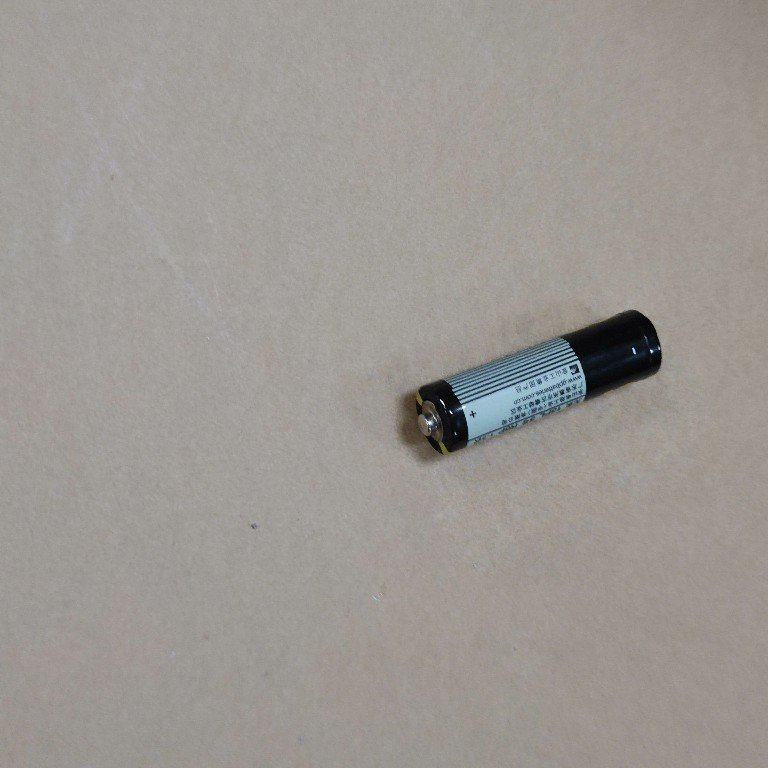charge: (410, 307, 665, 457)
